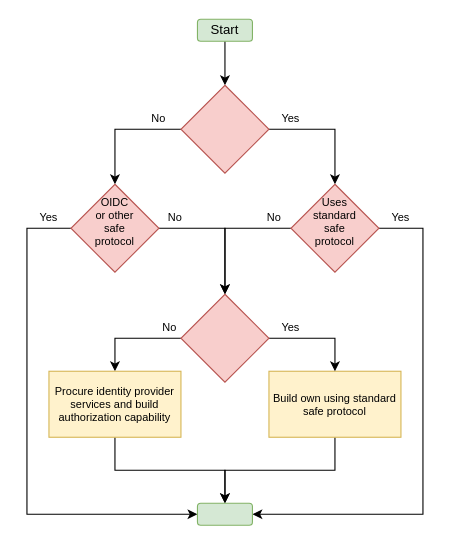
This 451x545 diagram has some shape labels left out. Each missing label, with the box of its shape:
Capability and desire to build own: (180, 293, 269, 382)
End: (196, 502, 252, 525)
Inhouse Auth: (180, 84, 269, 173)
